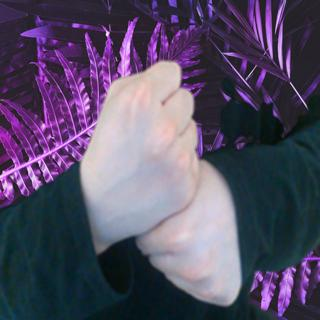CAREFUL: (79, 56, 243, 314)
